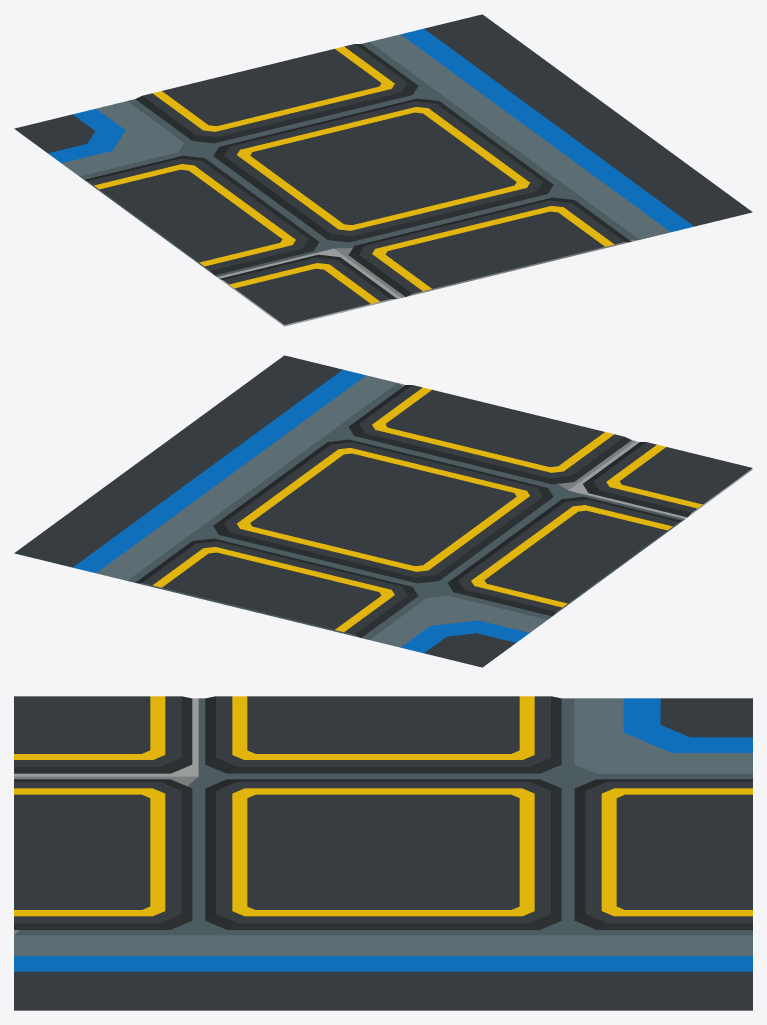
Rendered from Floor_type_C_036.glb.
The picture shows the model from 3 angles, top to bottom: view 1: azimuth 30°, elevation 25°; view 2: azimuth 150°, elevation 25°; view 3: azimuth 270°, elevation 25°; orthographic projection. The views are drawn at different scales.
Visible parts, largest first — view 1: Floor_type_C_036; view 2: Floor_type_C_036; view 3: Floor_type_C_036.
Boxes of the visible parts, <box> form: Floor_type_C_036: <box>14,14,752,326</box>; Floor_type_C_036: <box>14,355,752,667</box>; Floor_type_C_036: <box>14,696,752,1010</box>.
Size of the model in its own units: 4 by 0.0134 by 4.
Materials: 2 (2 with a texture image).
